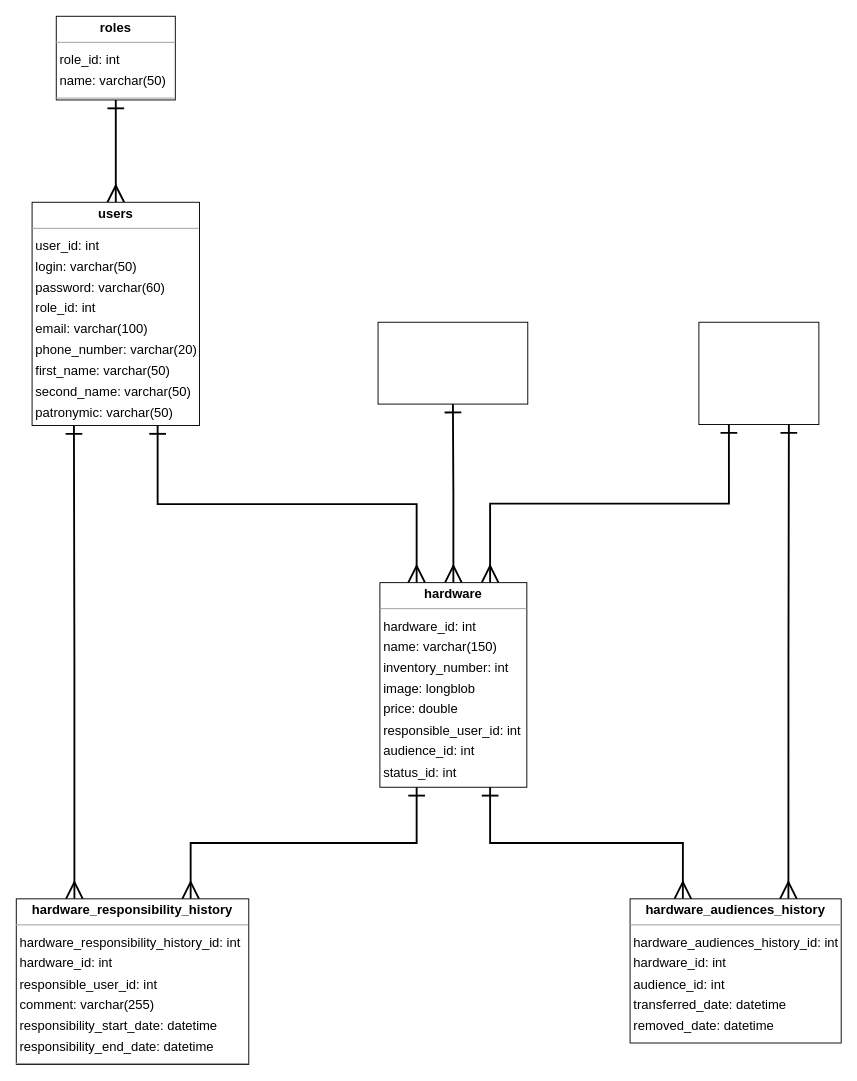
The diagram is 857 pixels wide and 1081 high, and some of its shapes have lost their labels. Each missing label, with the centre of its shape:
audiences audience_id: int name: varchar(60) code: varchar(100): the point at 758,373
hardware_statuses hardware_status_id: int name: varchar(50): the point at 452,362
